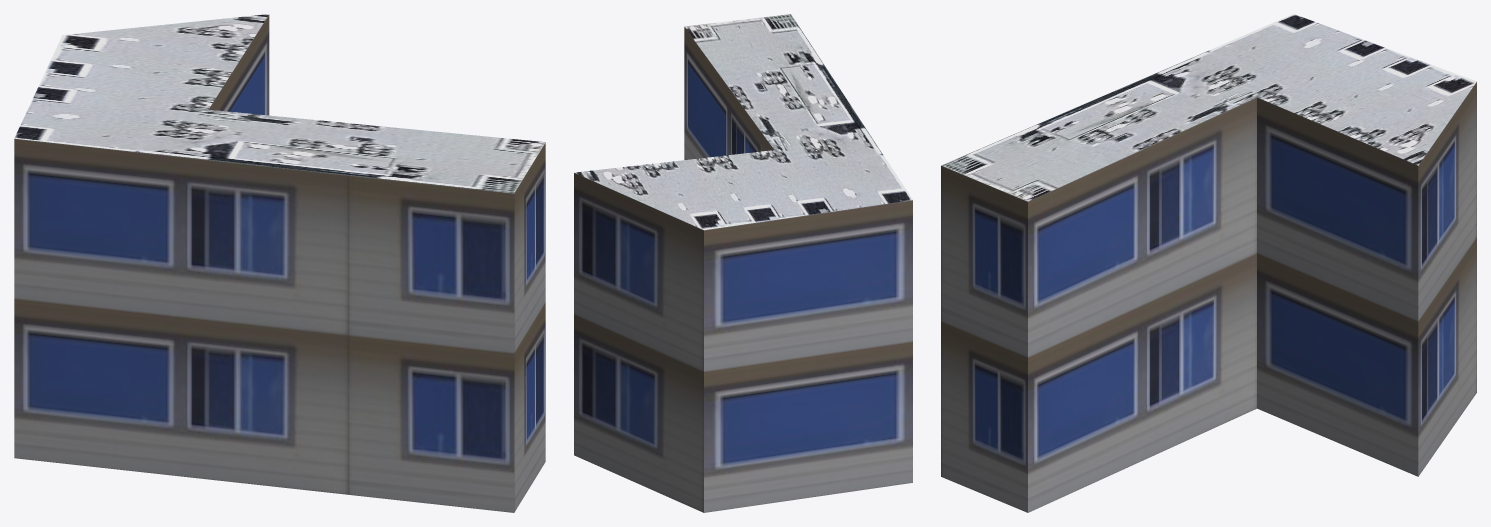
The model's file is ResTex__5337.fbx.
The picture shows the model from 3 angles, left to right: view 1: azimuth 30°, elevation 25°; view 2: azimuth 150°, elevation 25°; view 3: azimuth 270°, elevation 25°; orthographic projection. The views are drawn at different scales.
Visible parts, largest first — view 1: CityEngineMaterial_23_m, CityEngineMaterial_m; view 2: CityEngineMaterial_23_m, CityEngineMaterial_m; view 3: CityEngineMaterial_23_m, CityEngineMaterial_m.
Part boxes in pixels (x1,y1,x2,y2): CityEngineMaterial_23_m: [14, 14, 545, 512]; CityEngineMaterial_m: [14, 14, 545, 193]; CityEngineMaterial_23_m: [574, 27, 912, 512]; CityEngineMaterial_m: [574, 14, 912, 230]; CityEngineMaterial_23_m: [941, 82, 1476, 512]; CityEngineMaterial_m: [941, 14, 1476, 201].
Size of the model in its own units: 7.76 by 6 by 9.36.
Materials: 2 (2 with a texture image).
